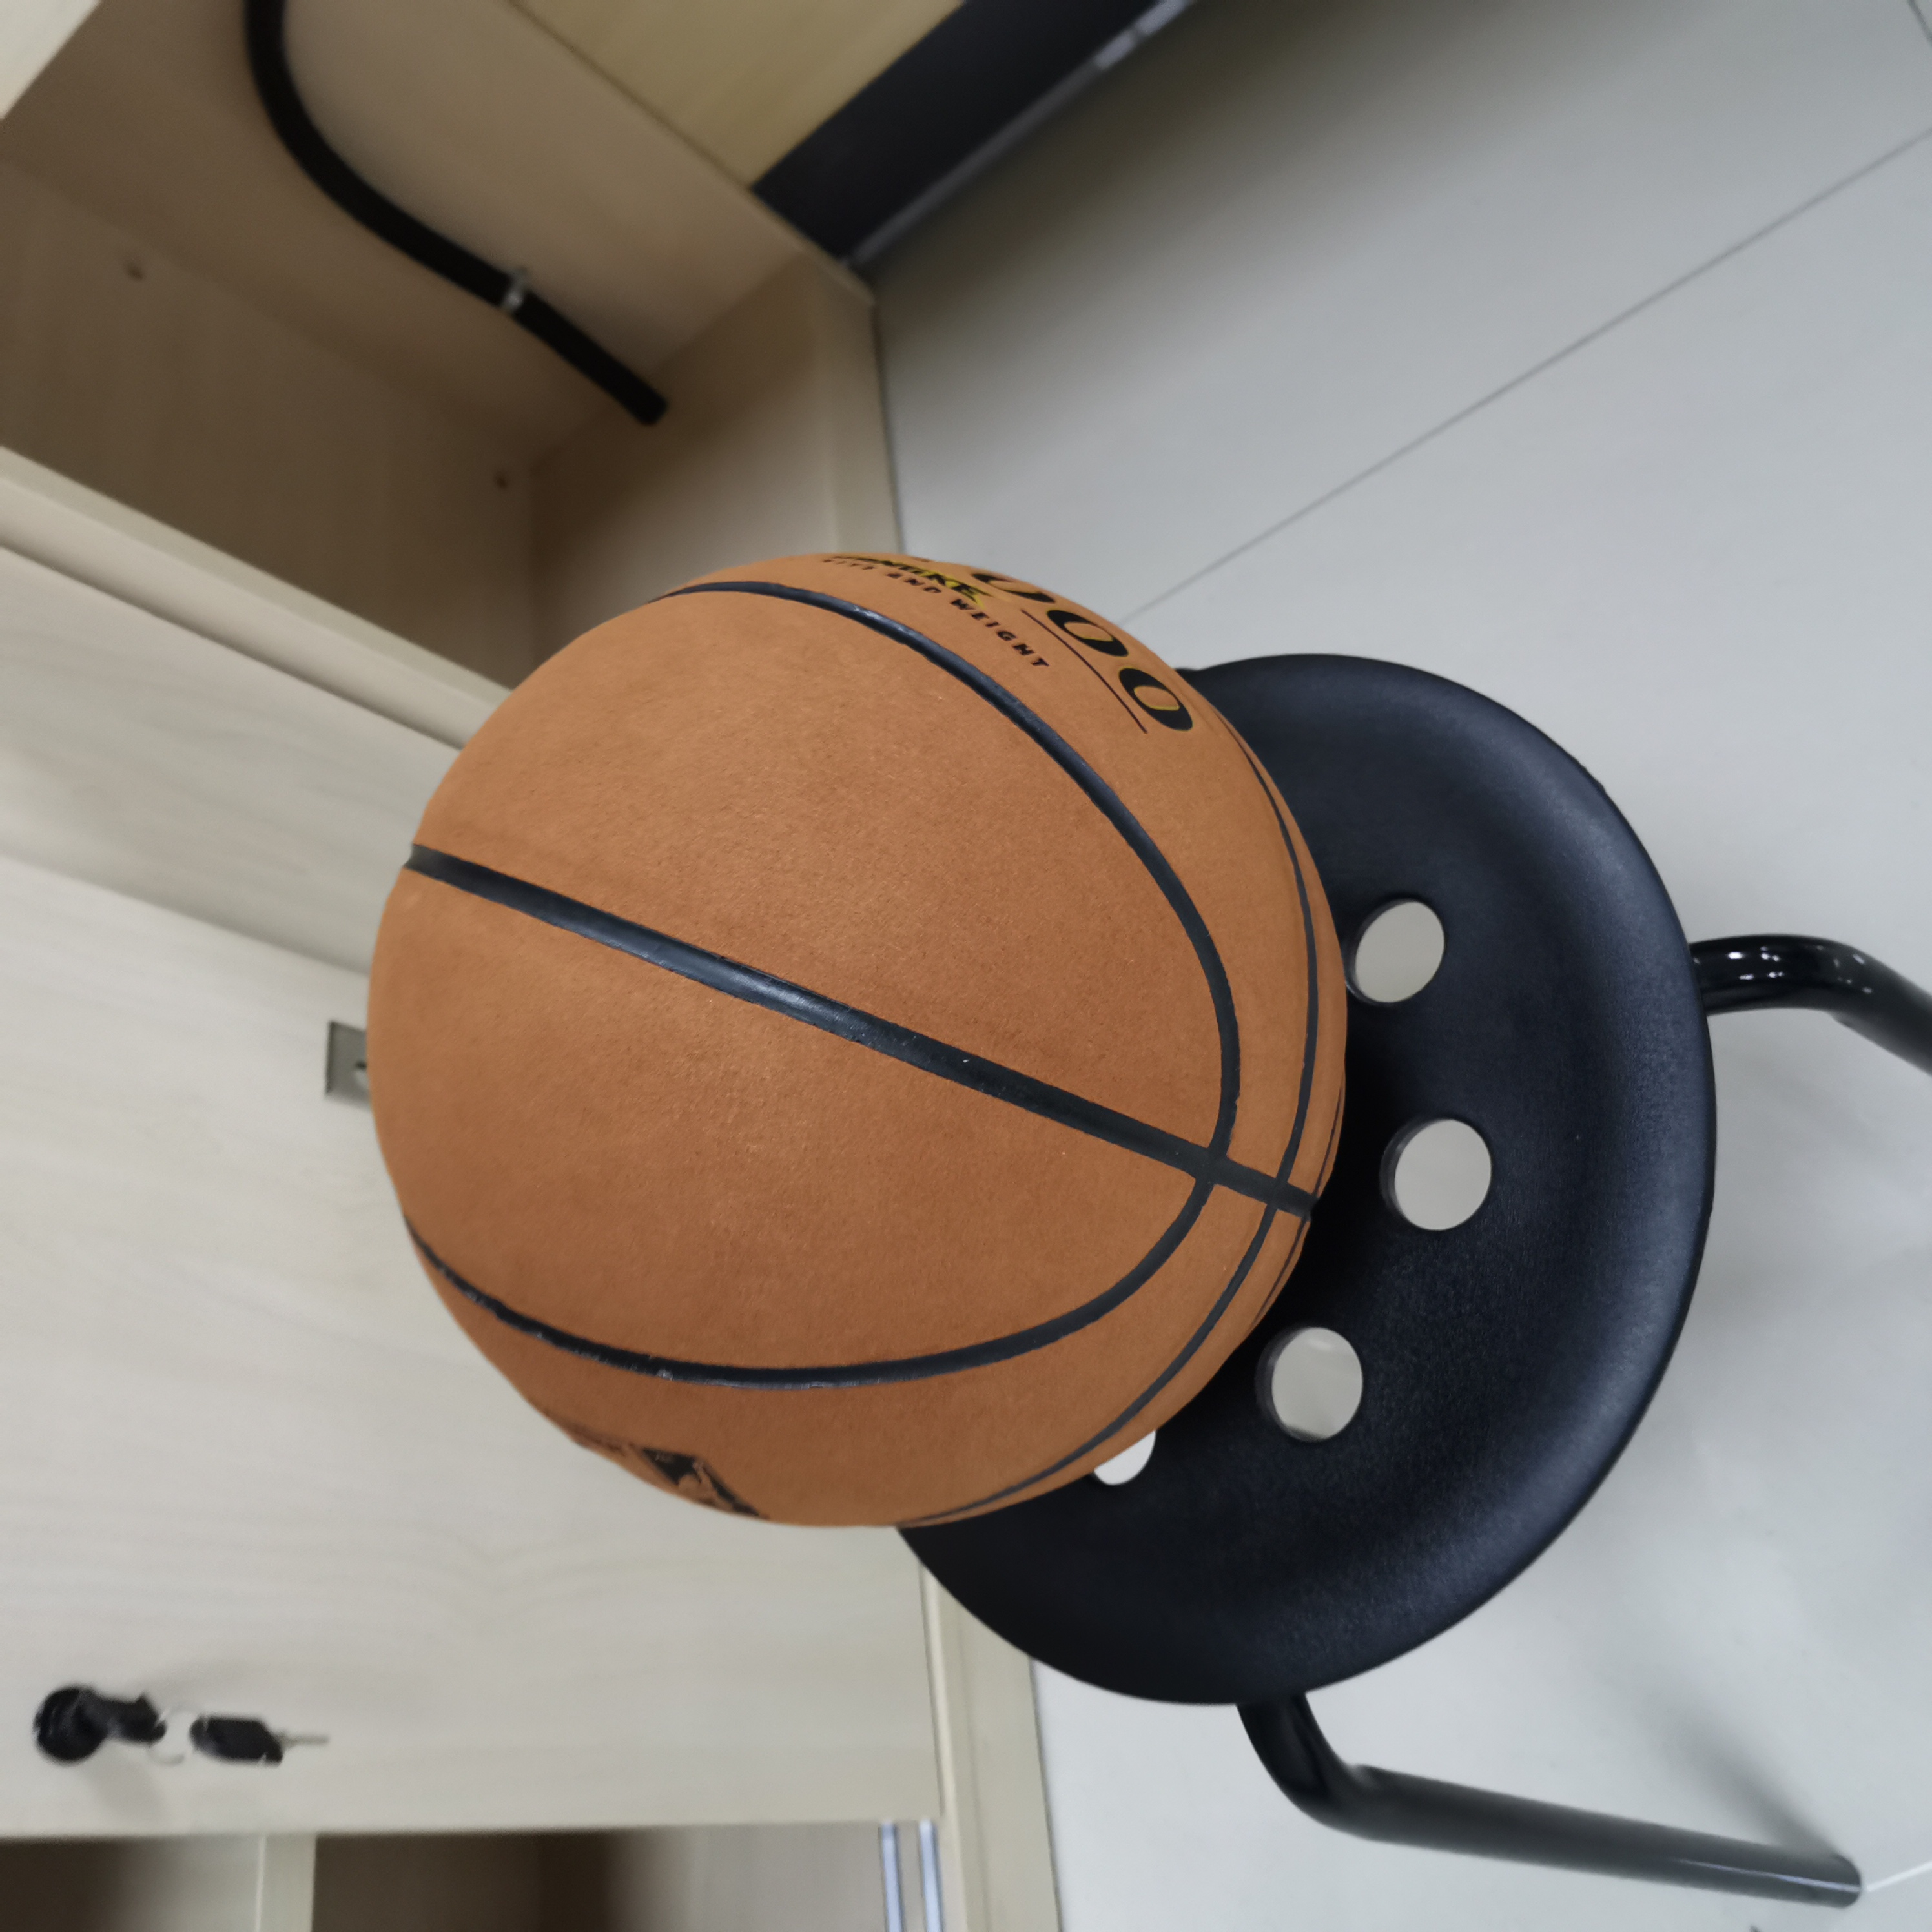basketball: (366, 559, 1345, 1530)
